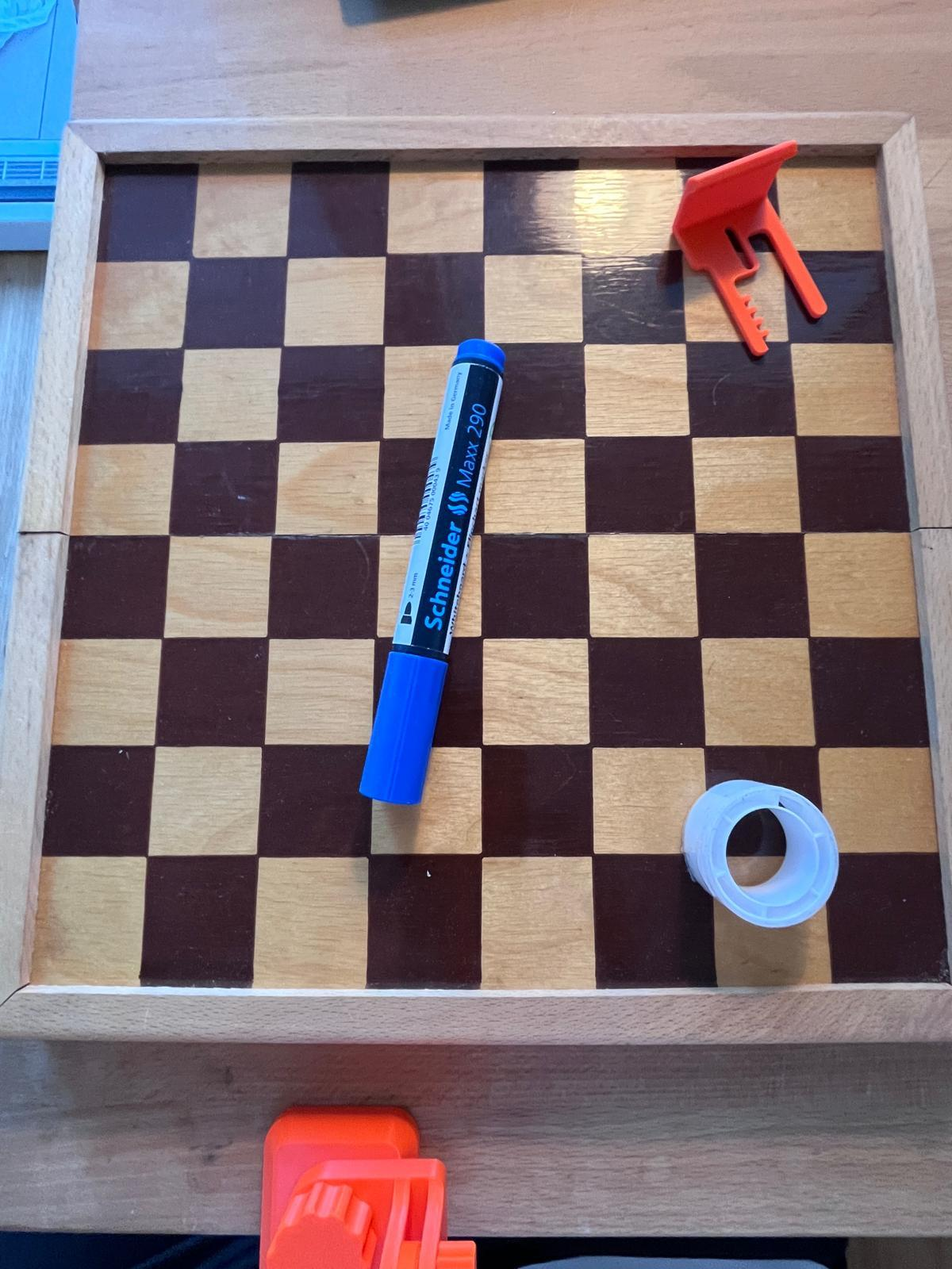clipper: (668, 140, 830, 351)
marker: (351, 339, 511, 798)
tape: (682, 780, 839, 925)
